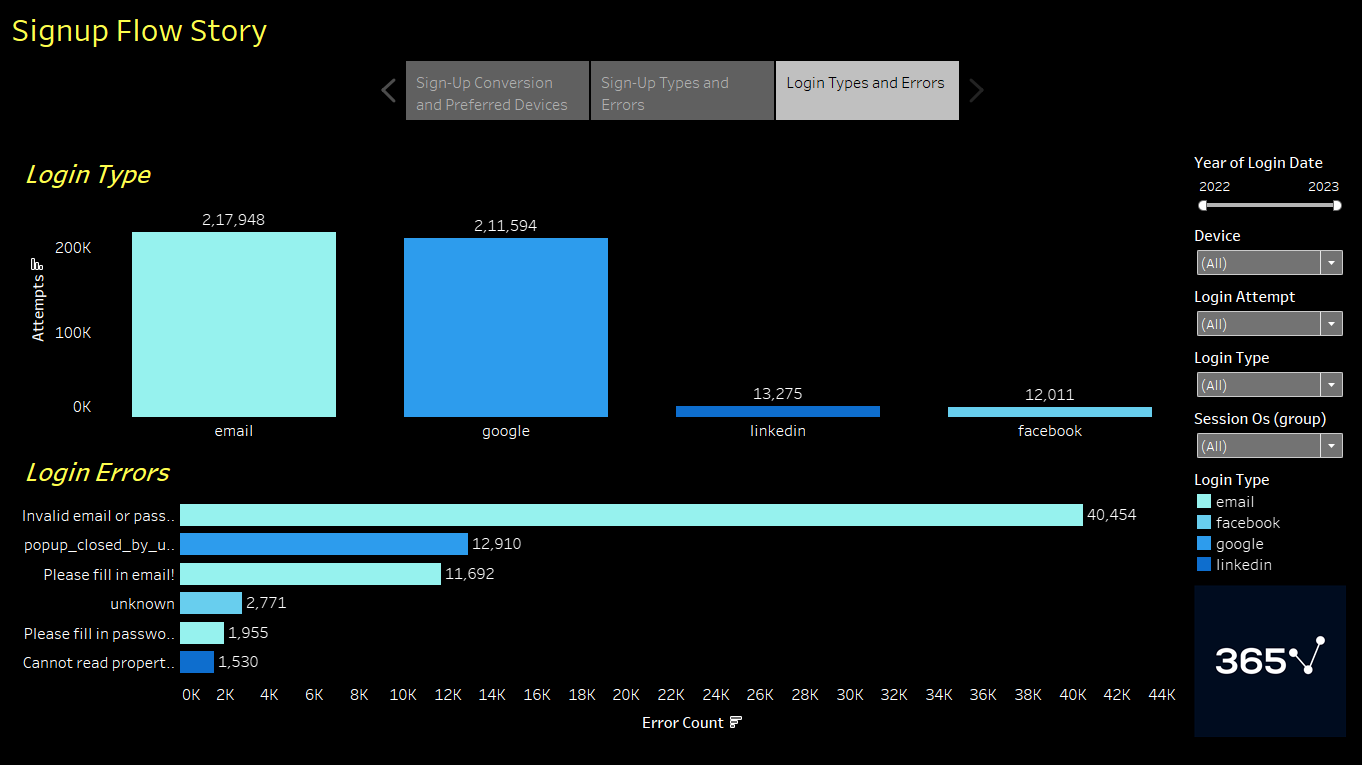

What the dashboard file says about the page in this screenshot:
{"tool":"tableau","page":{"name":"Dashboard 3","canvas":[1350,612],"ordinal":2},"visuals":[{"type":"worksheet","title":"Login Type","mark":"Bar","rows":["login_types_mod.csv_67CE9EEDBD8E4E76AC5BCB4308C4ED9E"],"cols":["login_type"],"box":[8,8,1174,298]},{"type":"filter","title":"Login Type","param":"[federated.0gke2sh143t6td11u9o4d11dtx5d].[tyr:login_date:qk]","box":[1182,8,160,73]},{"type":"filter","title":"Login Type","param":"[federated.0gke2sh143t6td11u9o4d11dtx5d].[none:device:nk]","box":[1182,81,160,61]},{"type":"filter","title":"Login Type","param":"[federated.0gke2sh143t6td11u9o4d11dtx5d].[none:login_attempt:nk]","box":[1182,142,160,61]},{"type":"filter","title":"Login Type","param":"[federated.0gke2sh143t6td11u9o4d11dtx5d].[none:login_type:nk]","box":[1182,203,160,61]},{"type":"filter","title":"Login Type","param":"[federated.0gke2sh143t6td11u9o4d11dtx5d].[Session Os (group)]","box":[1182,264,160,61]},{"type":"worksheet","title":"Login Errors","mark":"Automatic","rows":["error_message"],"cols":["login_types_mod.csv_67CE9EEDBD8E4E76AC5BCB4308C4ED9E"],"box":[8,306,1174,298]},{"type":"legend","title":"Login Type","param":"[federated.0gke2sh143t6td11u9o4d11dtx5d].[none:login_type:nk]","box":[1182,325,160,114]},{"type":"image","param":"C:/Users/singh/Downloads/sql+tableau.twb Files/Image/0x0.png","box":[1182,439,160,165]}]}

Visuals, with their boxes on the page's 1350x612 design canvas (x1, y1, x2, y2). These are canvas units, not pixel positions in the 1362x765 screenshot, which may show the page scaled, cropped or inside an application window:
"Login Type" worksheet (Bar marks): 8, 8, 1182, 306
"Login Type" filter: 1182, 8, 1342, 81
"Login Type" filter: 1182, 81, 1342, 142
"Login Type" filter: 1182, 142, 1342, 203
"Login Type" filter: 1182, 203, 1342, 264
"Login Type" filter: 1182, 264, 1342, 325
"Login Errors" worksheet: 8, 306, 1182, 604
"Login Type" legend: 1182, 325, 1342, 439
image: 1182, 439, 1342, 604
